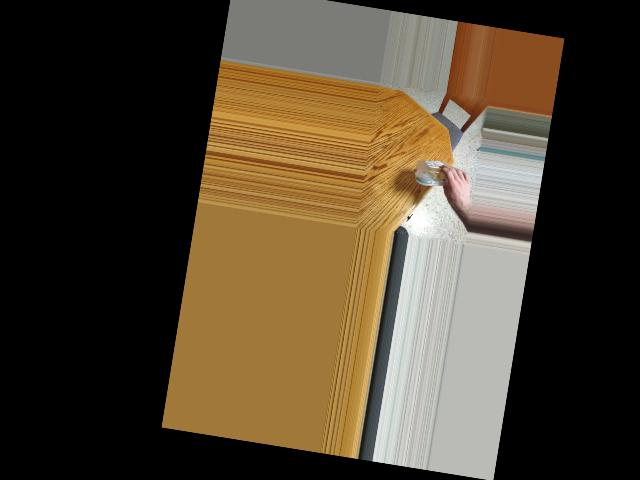cheese: (410, 148, 456, 205)
